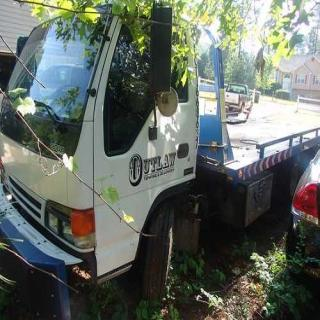Towing_truck: (1, 2, 318, 304)
